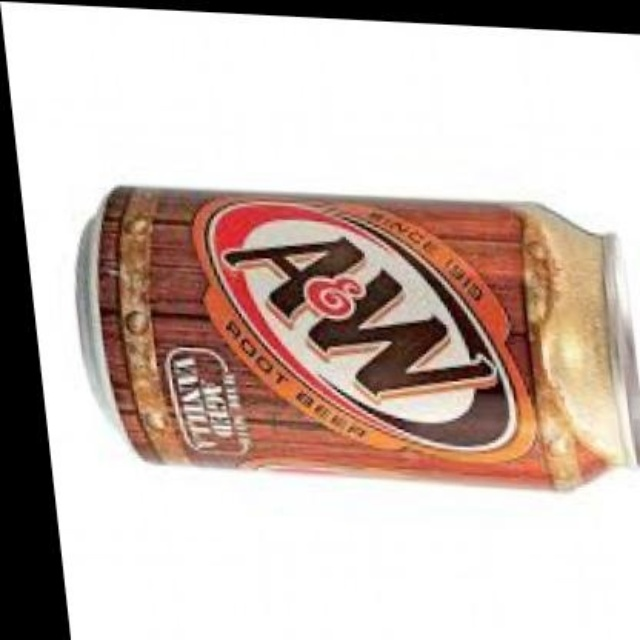trash: (80, 188, 634, 486)
